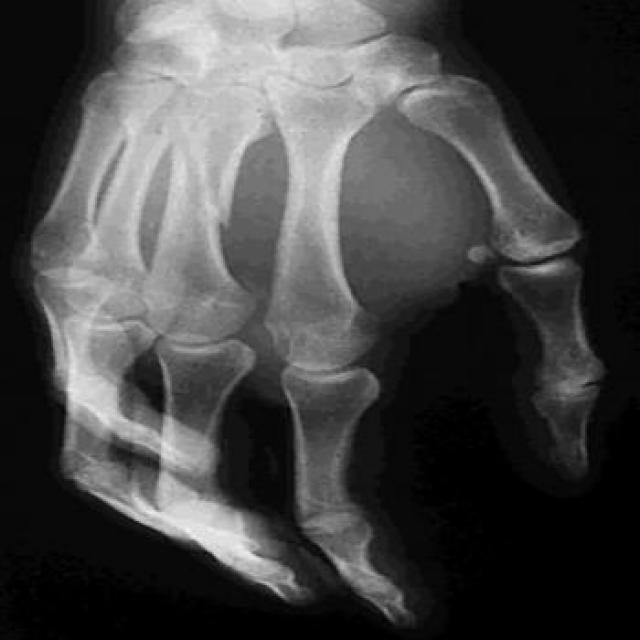fracture: (169, 142, 250, 238)
